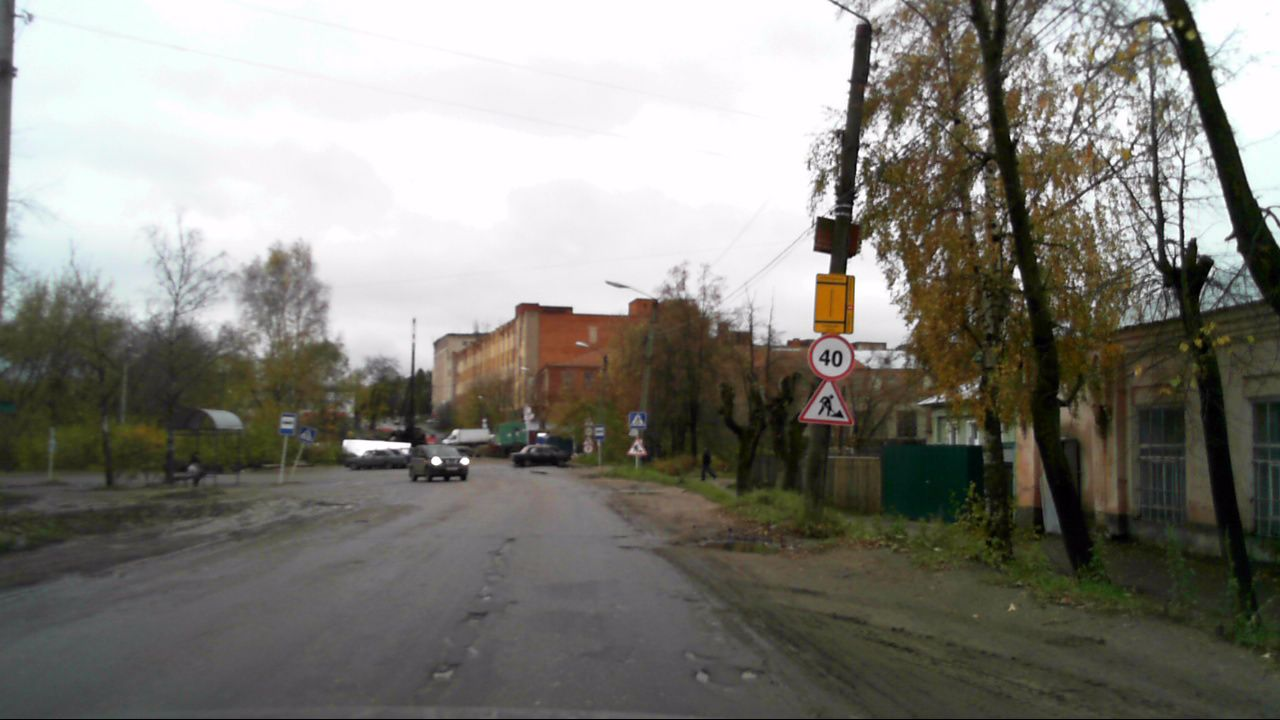speed_warning_40: (806, 332, 855, 381)
